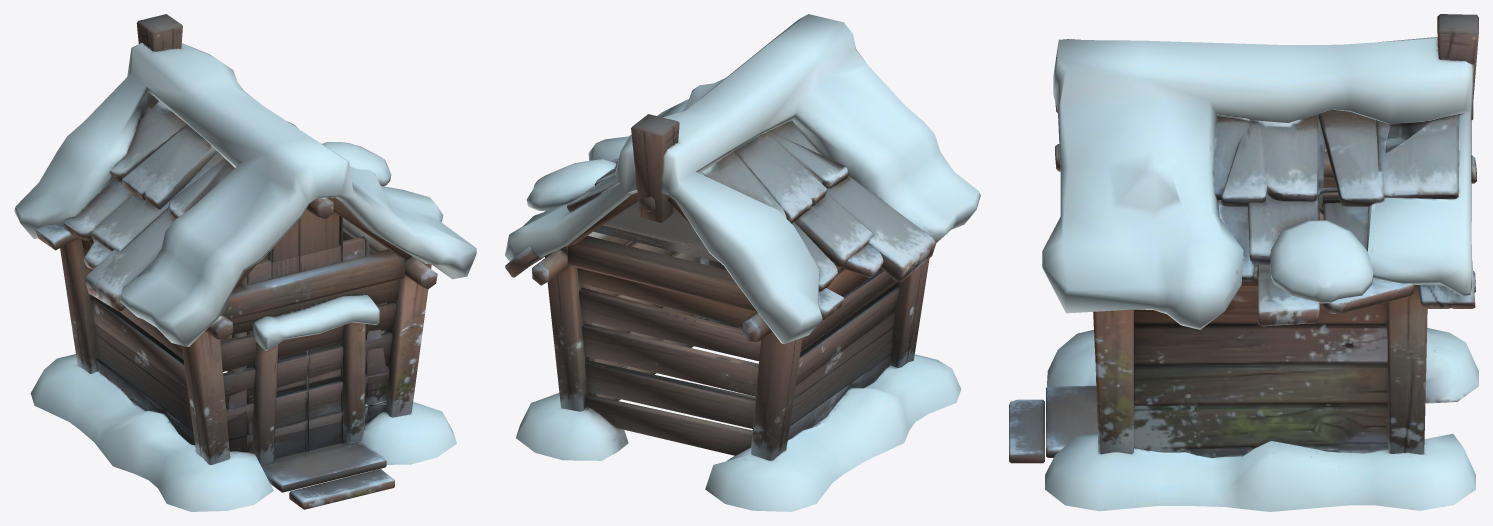
Rendered from selected.glb.
3 renders of one model, left to right at view 1: azimuth 30°, elevation 25°; view 2: azimuth 150°, elevation 25°; view 3: azimuth 270°, elevation 25°, orthographic. The views are drawn at different scales.
Parts seen in each view (by area): view 1: tripo_node_3de1f177-fcf2-4a58-a116-06c6ab980540; view 2: tripo_node_3de1f177-fcf2-4a58-a116-06c6ab980540; view 3: tripo_node_3de1f177-fcf2-4a58-a116-06c6ab980540.
Boxes of the visible parts, x1,y1,x2,y2 form: tripo_node_3de1f177-fcf2-4a58-a116-06c6ab980540: [14, 14, 476, 511]; tripo_node_3de1f177-fcf2-4a58-a116-06c6ab980540: [505, 14, 980, 511]; tripo_node_3de1f177-fcf2-4a58-a116-06c6ab980540: [1009, 14, 1478, 511].
Size of the model in its own units: 0.9746 by 0.9668 by 0.998.
1 material, 1 textured.
